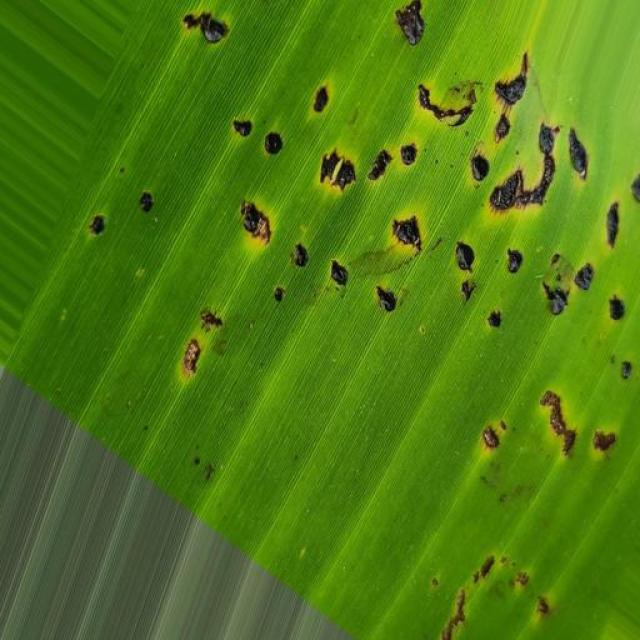Black_rot: (79, 4, 640, 390), (431, 383, 631, 636)
